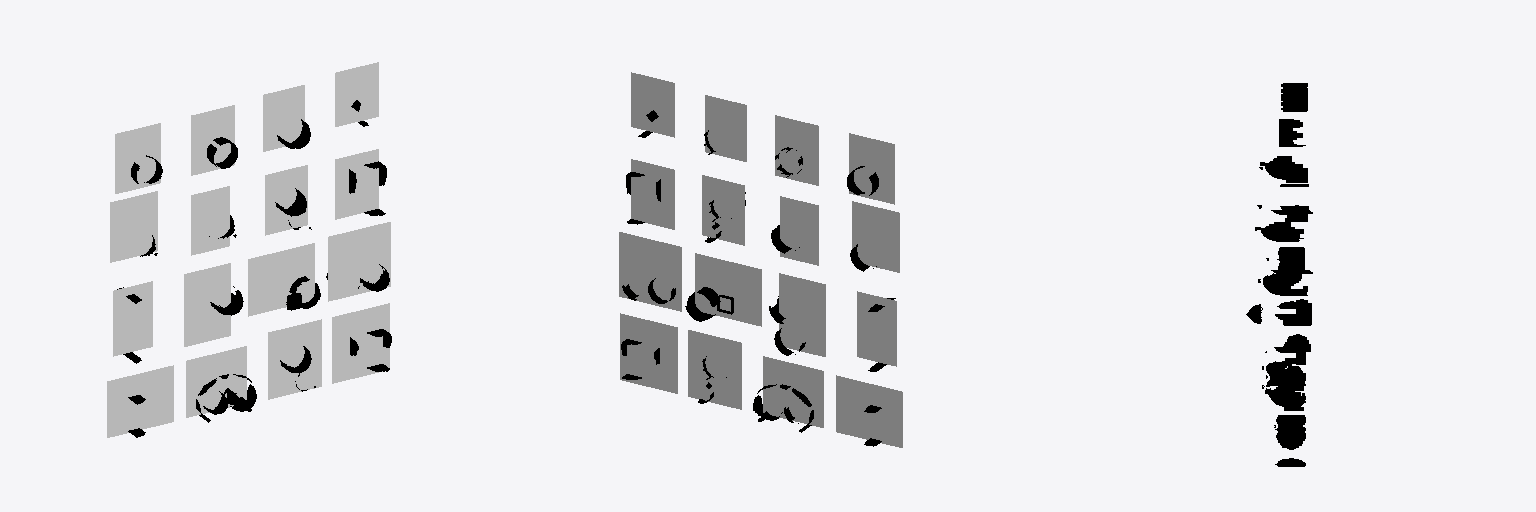
The picture shows the model from 3 angles: view 1: azimuth 30°, elevation 25°; view 2: azimuth 150°, elevation 25°; view 3: azimuth 270°, elevation 25°; orthographic projection.
Visible parts, largest first — view 1: shadow, Cube; view 2: shadow, Cube; view 3: Cube.
Boxes of the visible parts, <box> form: shadow: <box>107,62,390,437</box>; Cube: <box>117,100,391,437</box>; shadow: <box>619,72,902,447</box>; Cube: <box>621,110,895,446</box>; Cube: <box>1246,83,1312,466</box>.
Bounding box in the file's own units: 432 × 459 × 89.95.
Materials: 33 (1 with a texture image).